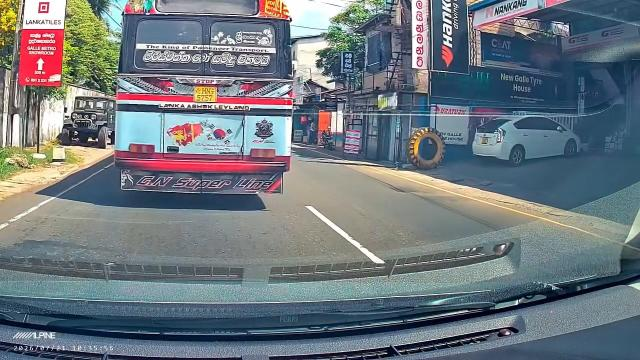number plate: (189, 87, 218, 106)
